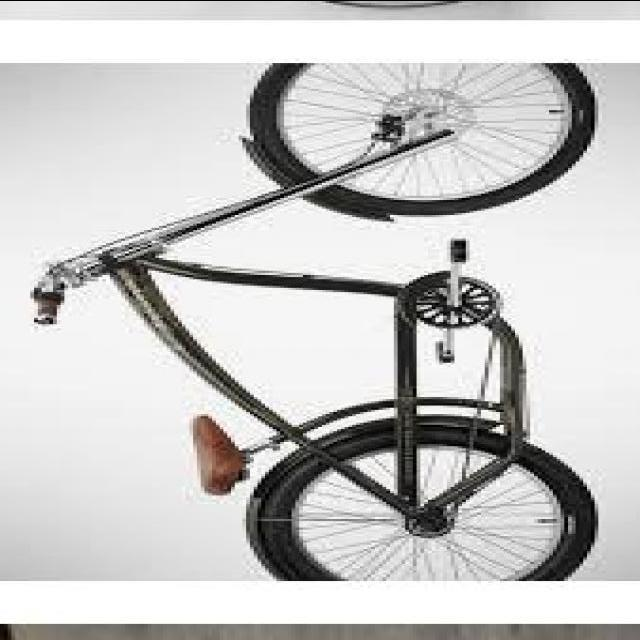bicycle: (28, 63, 584, 575)
